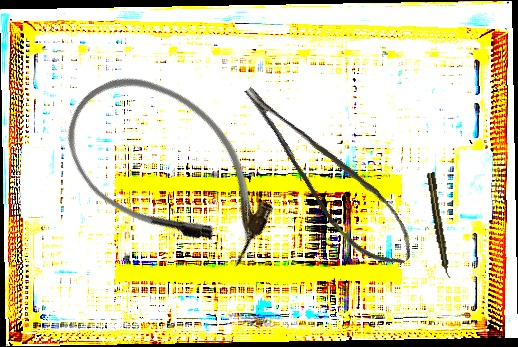Cannula: (40, 47, 301, 292)
Handpiece: (425, 171, 453, 280)
Micro Scissor: (236, 59, 426, 285)
